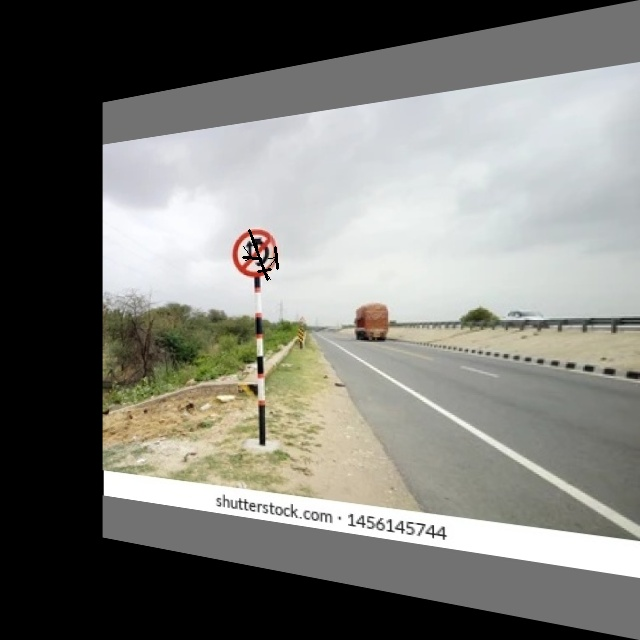Overtaking_Prohibited: (232, 228, 279, 280)
